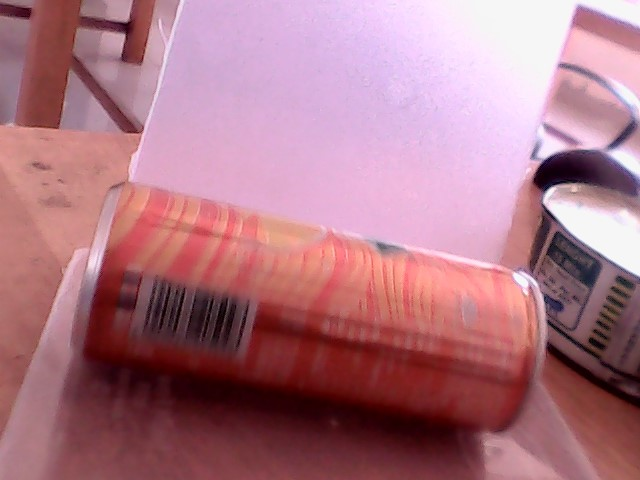Metal: (99, 168, 639, 426)
